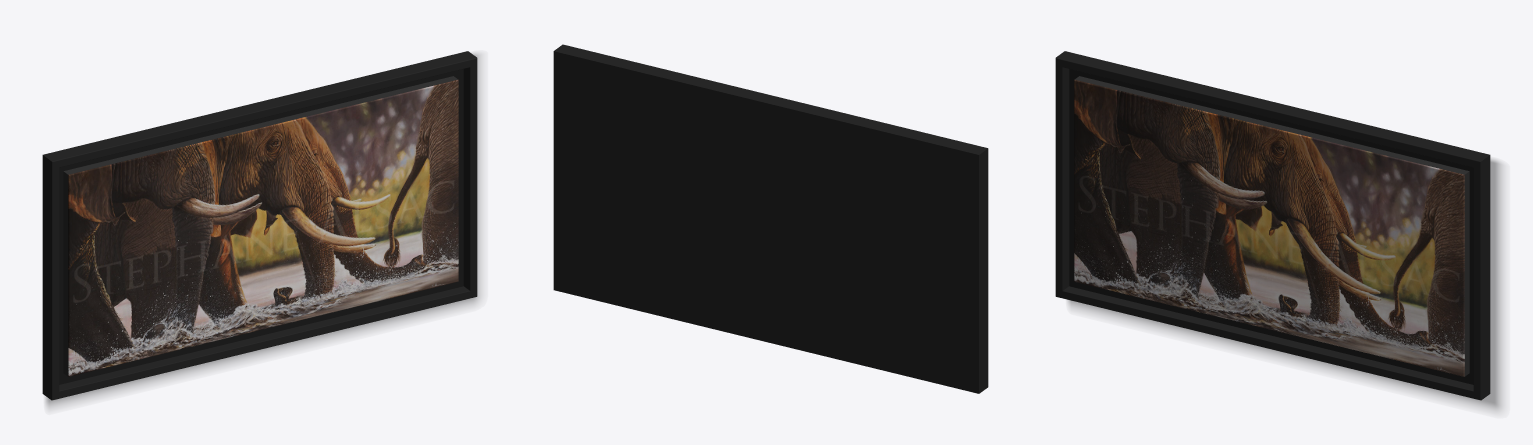
File: peinture-elephants-crossing-classique-6ea4971b.glb
3 views of the same model, side by side, from view 1: azimuth 30°, elevation 25°; view 2: azimuth 150°, elevation 25°; view 3: azimuth 330°, elevation 25° (orthographic).
Parts seen in each view (by area): view 1: Painting; view 2: Painting; view 3: Painting.
Part boxes in pixels (x1,y1,x2,y2): Painting: (42, 51, 479, 407); Painting: (553, 44, 988, 393); Painting: (1055, 51, 1501, 410).
Bounding box in the file's own units: 1.18 × 0.696 × 0.04.
Materials: 5 (3 with a texture image).
